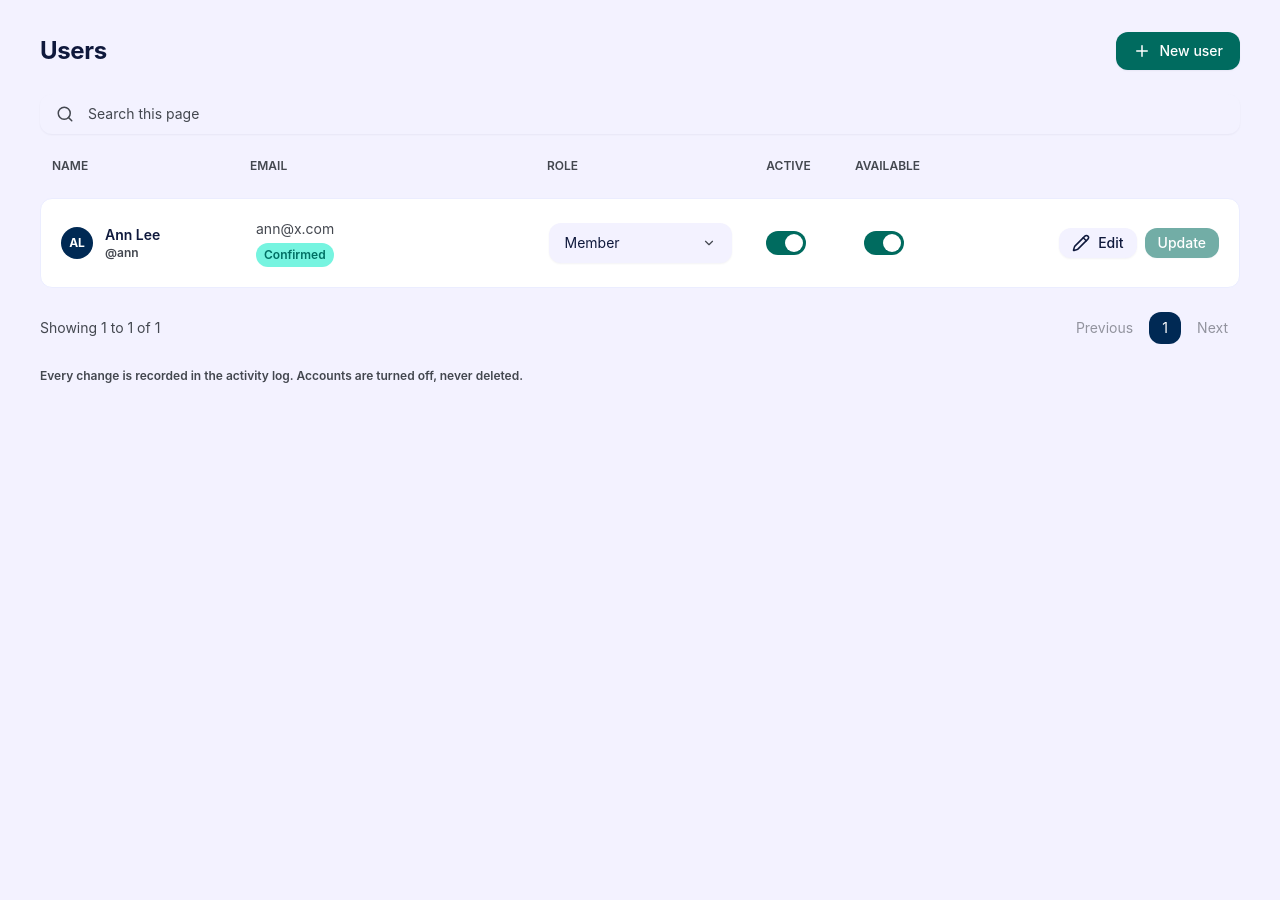
it: UsersScreen › stages a role change in the row and saves it only after Update and a confirmation (ADM-04)
Later steps or results of the test are not shown.
Check: the button with aria-label "Update ann" is disabled, box x1=1144 y1=228 x2=1219 y2=258
Click the button with aria-label "Role of ann: Member" at [640, 243], box x1=548 y1=223 x2=732 y2=263
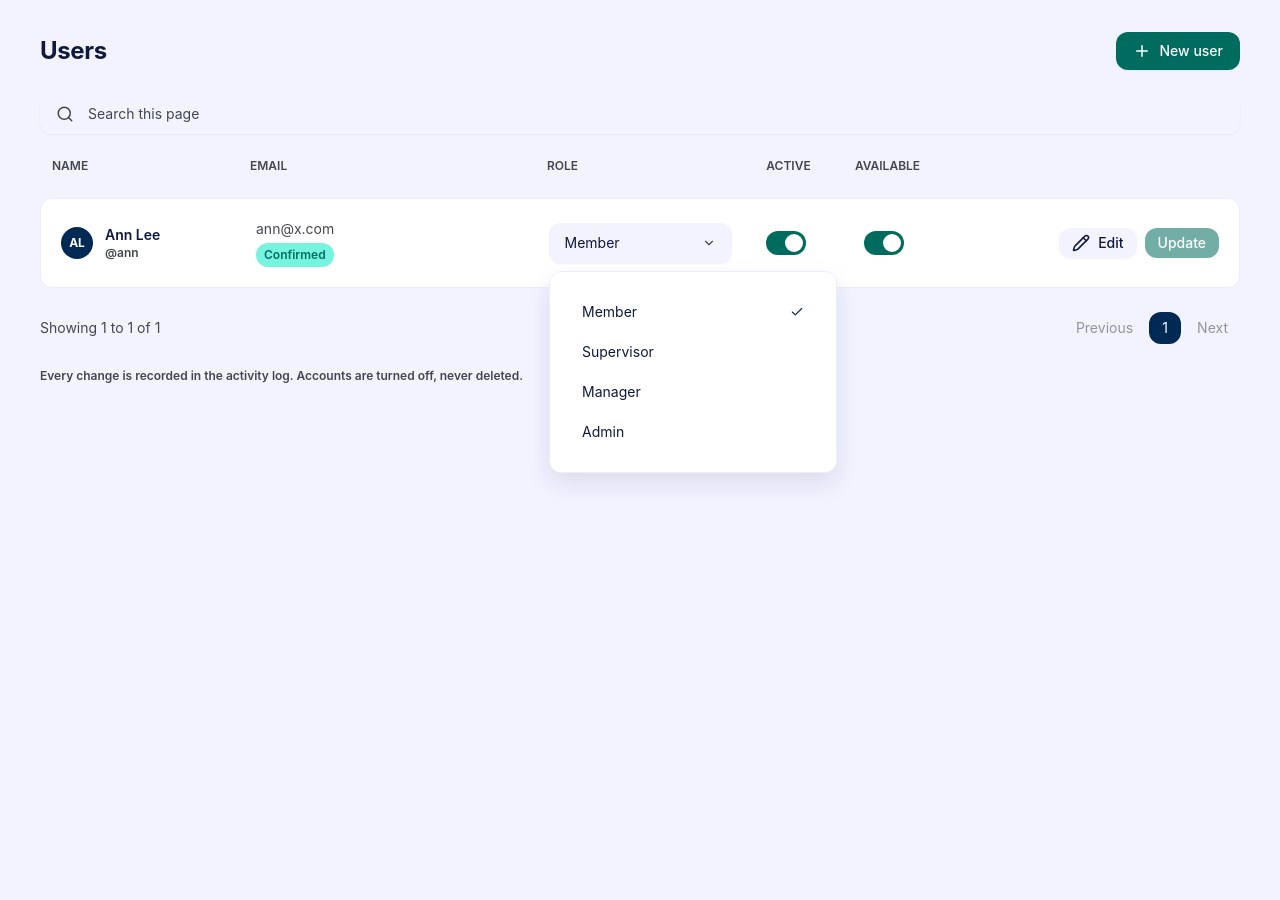
Click the option "Supervisor" at [618, 352], box x1=582 y1=343 x2=654 y2=360
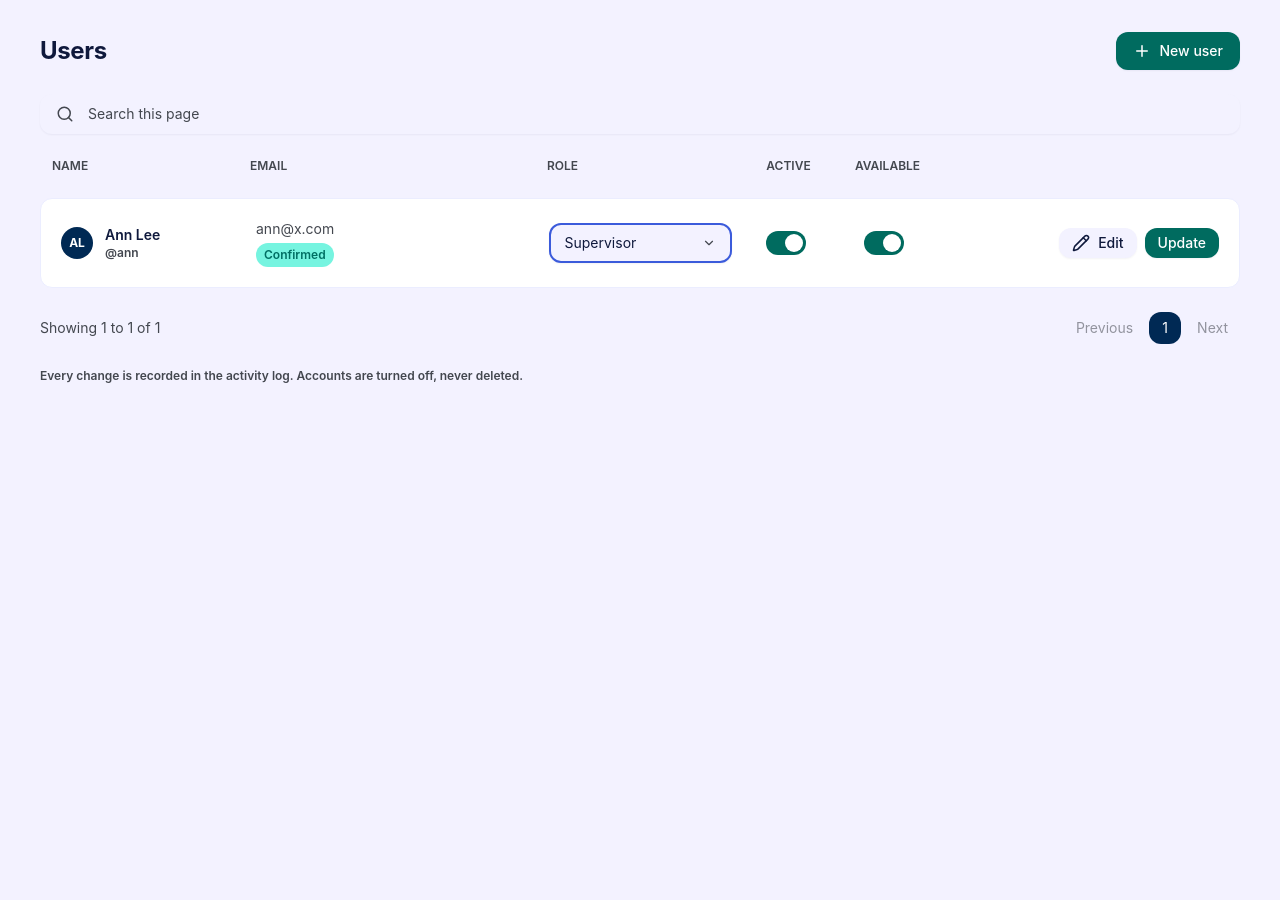
Click the button with aria-label "Update ann" at [1182, 243], box x1=1144 y1=228 x2=1219 y2=258
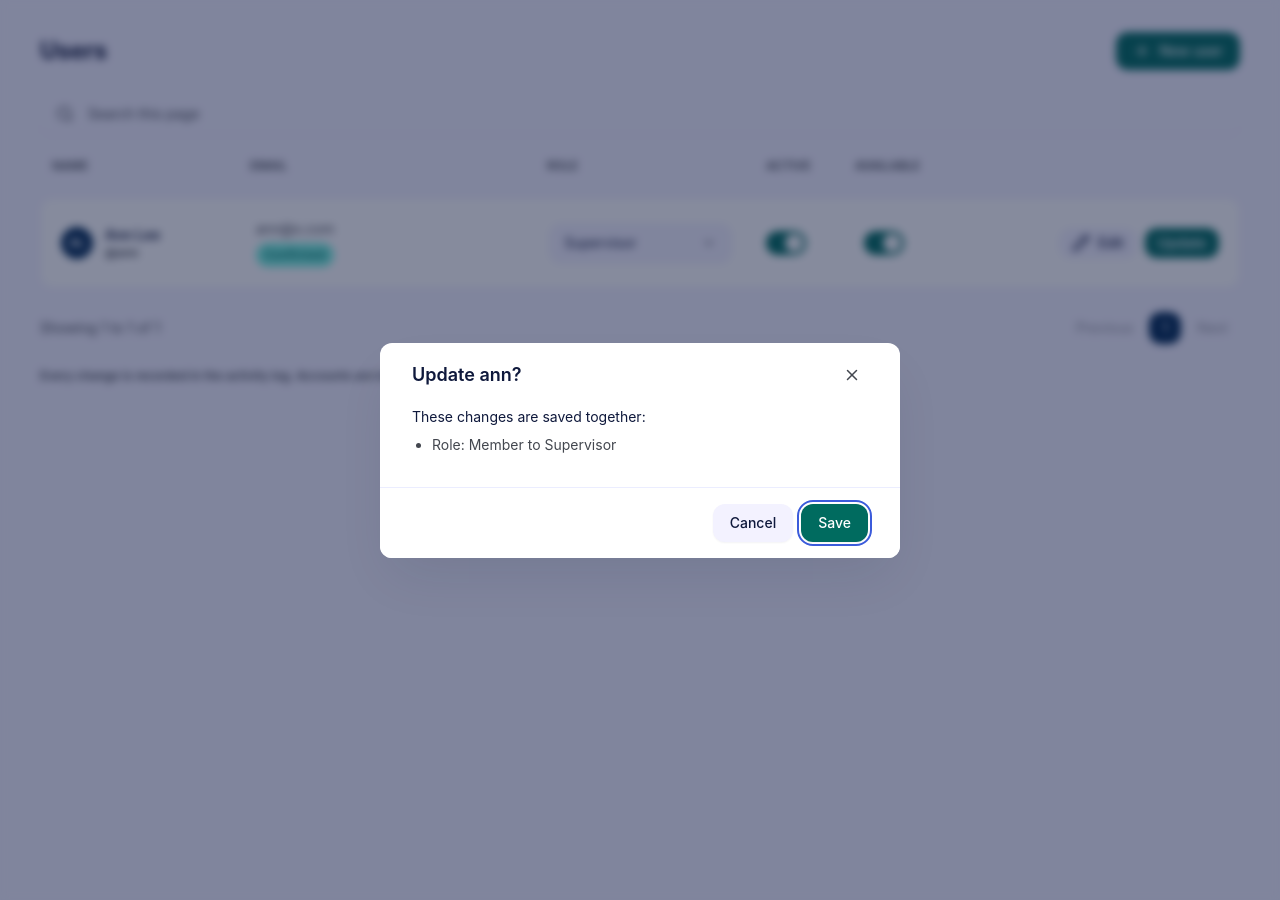
Check: the list item "Role: Member to Supervisor" is shown, box x1=432 y1=436 x2=616 y2=452
